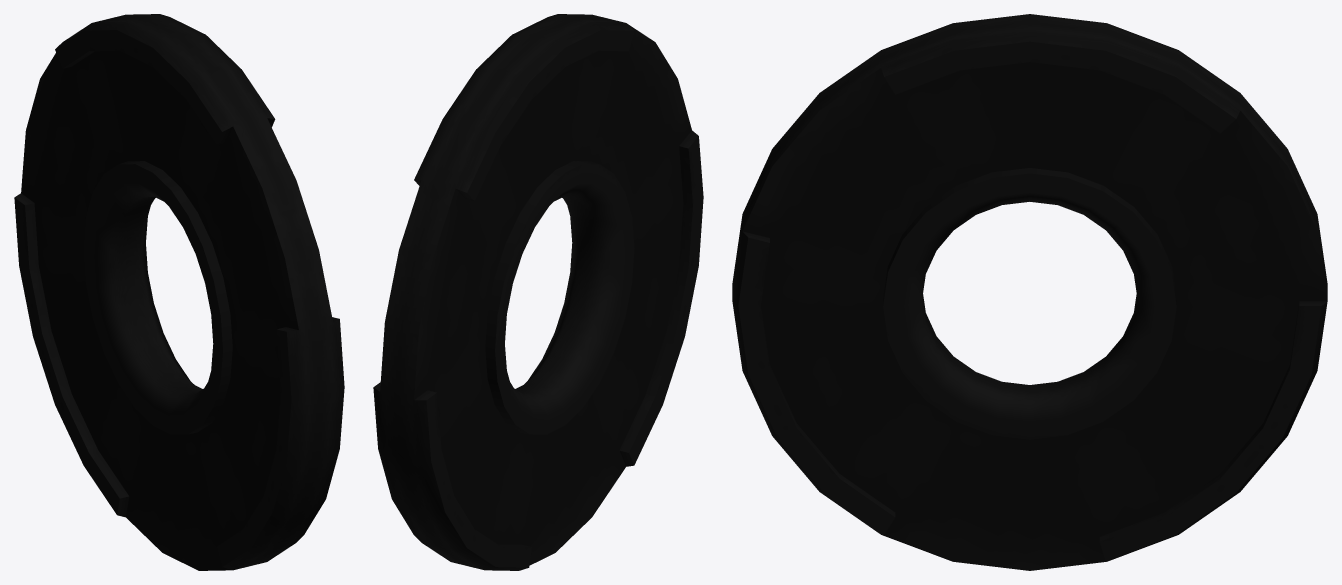
The model's file is MSH_Plate_03.FBX.
3 renders of one model, left to right at view 1: azimuth 30°, elevation 25°; view 2: azimuth 150°, elevation 25°; view 3: azimuth 270°, elevation 25°, orthographic. The views are drawn at different scales.
Parts seen in each view (by area): view 1: MSH_Plate_03; view 2: MSH_Plate_03; view 3: MSH_Plate_03.
Part boxes in pixels (left/top/right/bottom): MSH_Plate_03: left=14, top=14, right=344, bottom=570; MSH_Plate_03: left=373, top=14, right=703, bottom=570; MSH_Plate_03: left=732, top=14, right=1327, bottom=570.
Size of what is drawn, in the model's own units: 1.56 by 14.4 by 14.4.
